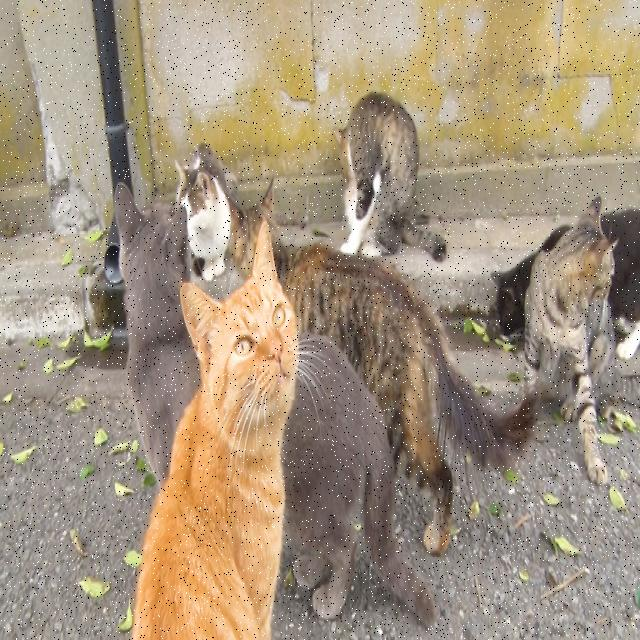cat: (229, 189, 535, 553), (132, 222, 299, 637), (282, 333, 435, 627), (524, 198, 615, 484), (115, 187, 200, 483), (334, 93, 446, 261), (175, 144, 244, 281), (491, 227, 571, 336), (600, 210, 640, 360)
